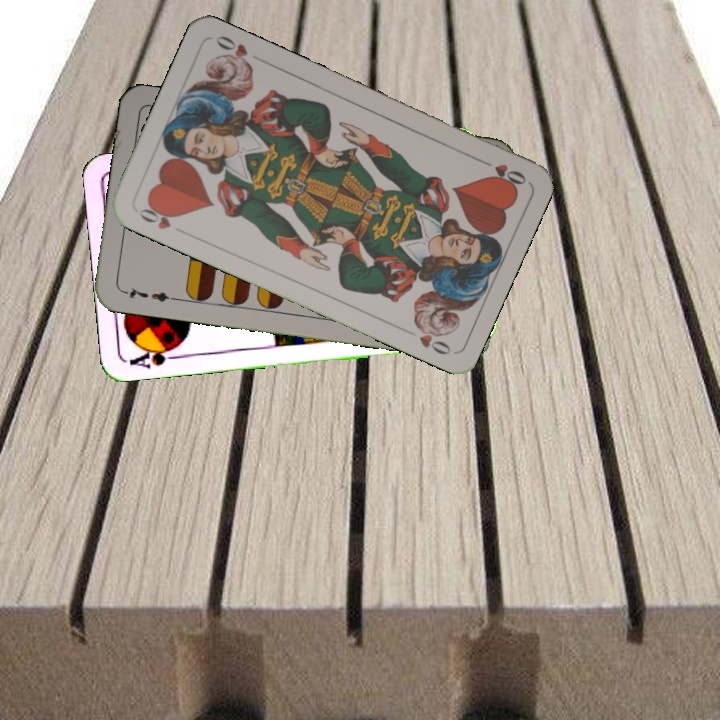E7: (118, 283, 177, 305)
HO: (473, 154, 529, 190), (135, 199, 181, 232)
SA: (125, 340, 184, 371)
